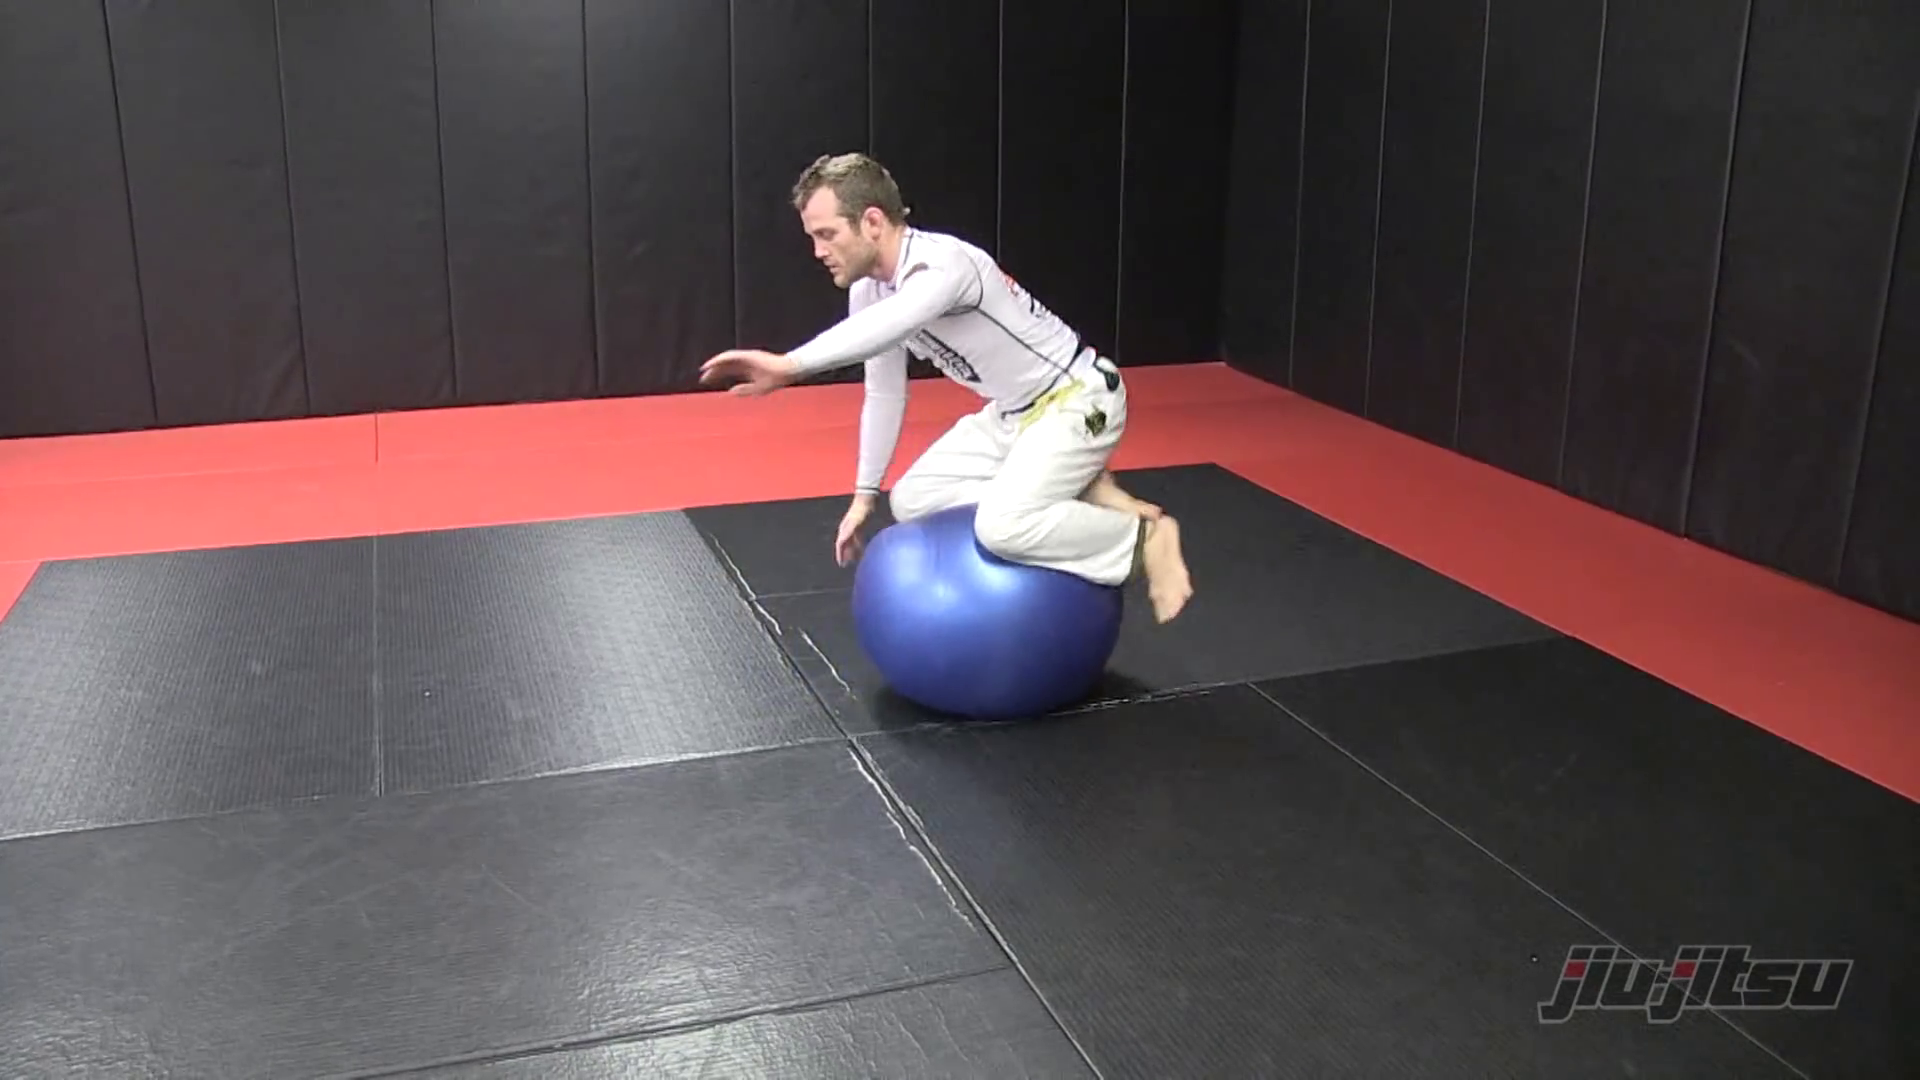yogaball: (827, 500, 1156, 727)
